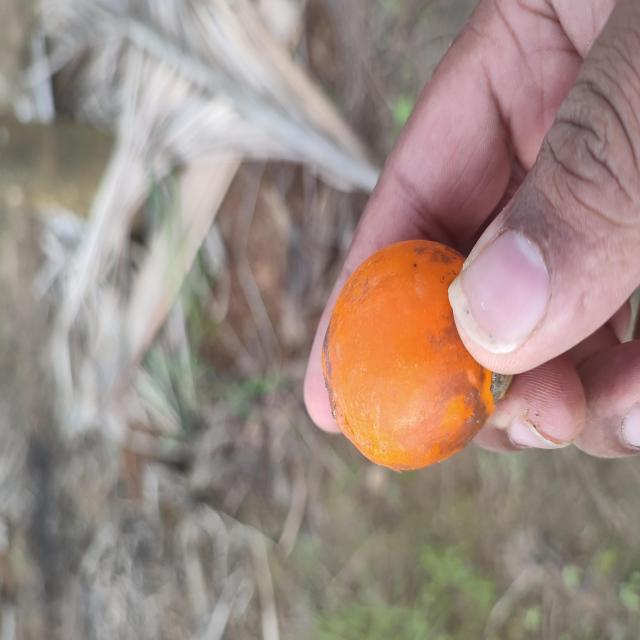good: (320, 240, 514, 473)
